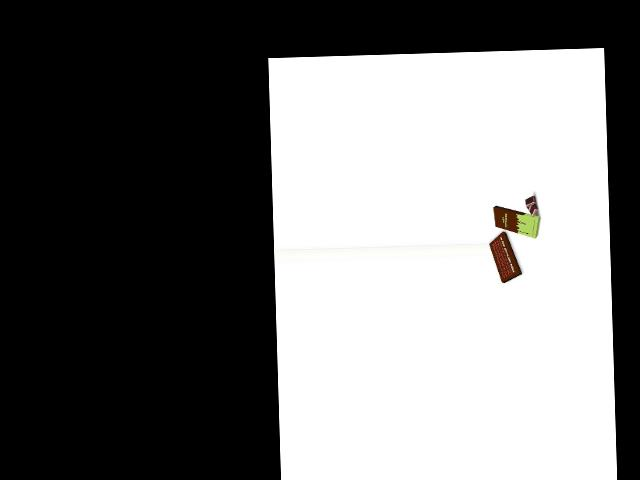chocolate: (492, 208, 542, 237)
